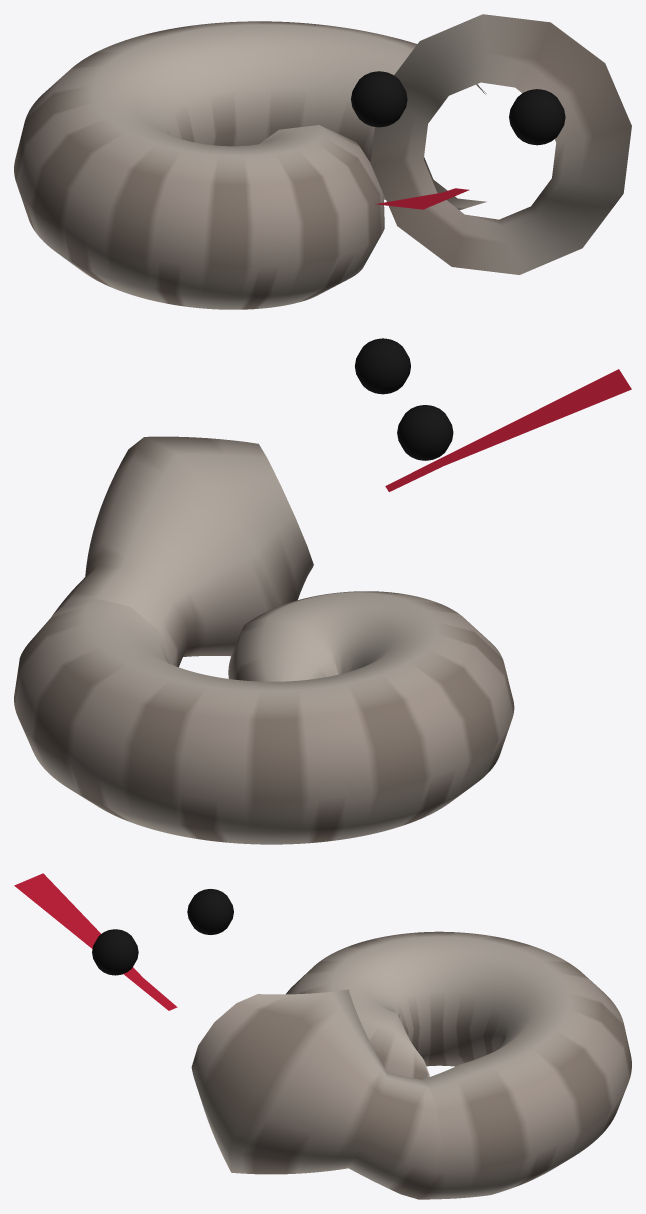
The model's file is mapana.glb.
3 renders of one model, top to bottom at view 1: azimuth 30°, elevation 25°; view 2: azimuth 150°, elevation 25°; view 3: azimuth 270°, elevation 25°, orthographic. The views are drawn at different scales.
Bounding box in the file's own units: 0.8644 × 0.4966 × 1.19.
